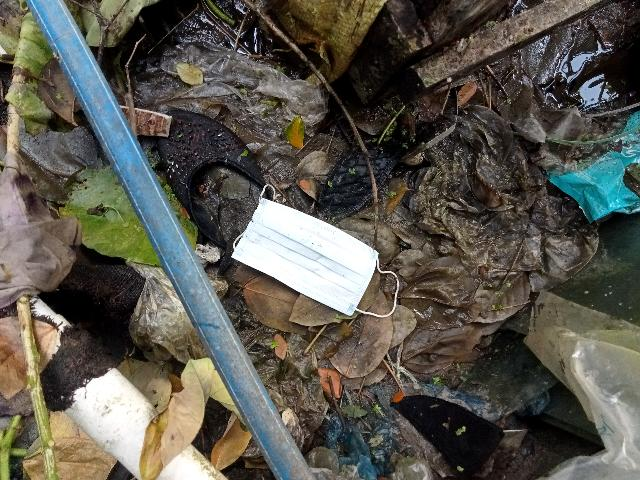mask: (225, 185, 389, 322)
